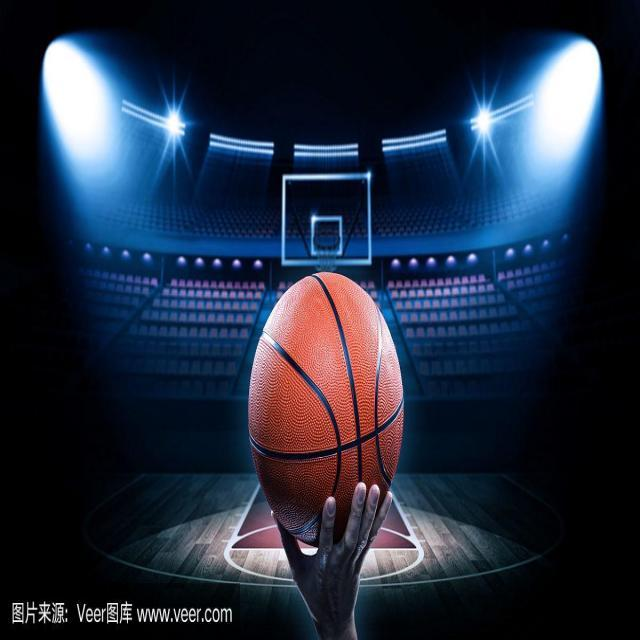rim: (247, 268, 406, 535)
